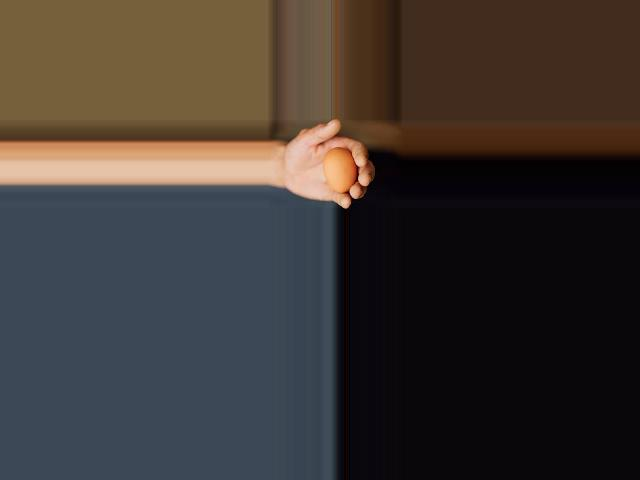egg: (323, 148, 355, 193)
